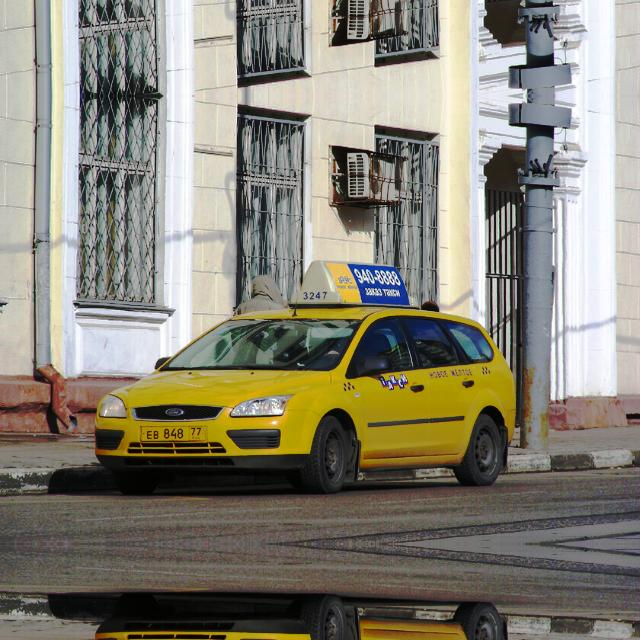taxi: (135, 421, 213, 449)
